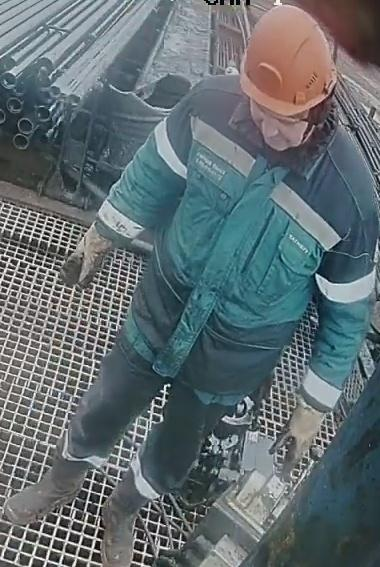gloves: (267, 384, 332, 481), (57, 212, 122, 290)
helmet: (238, 3, 338, 117)
vest: (123, 77, 378, 396)
